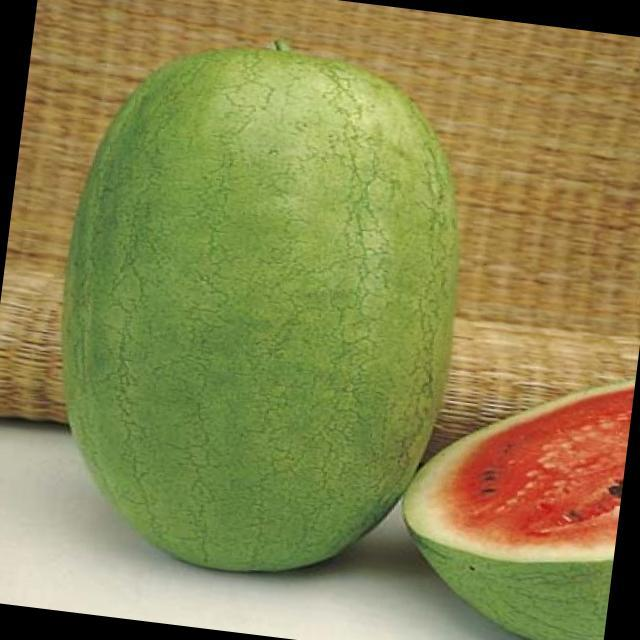WATERMELON: (28, 3, 506, 595), (394, 348, 635, 640)
